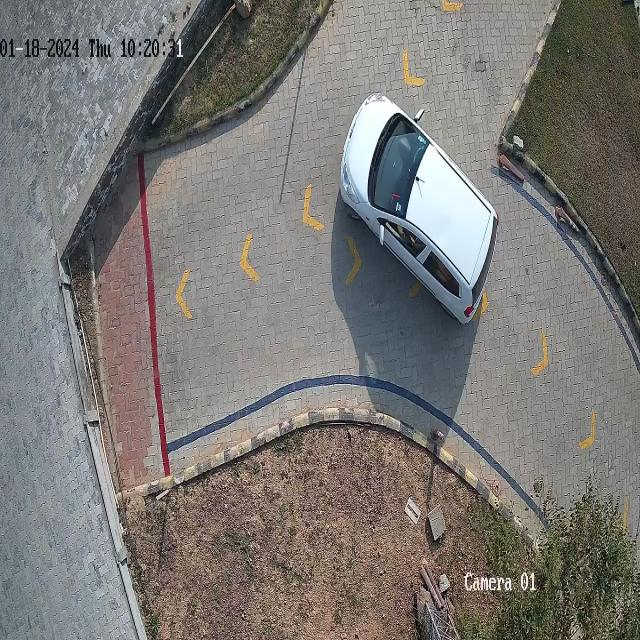car: (341, 93, 499, 324)
